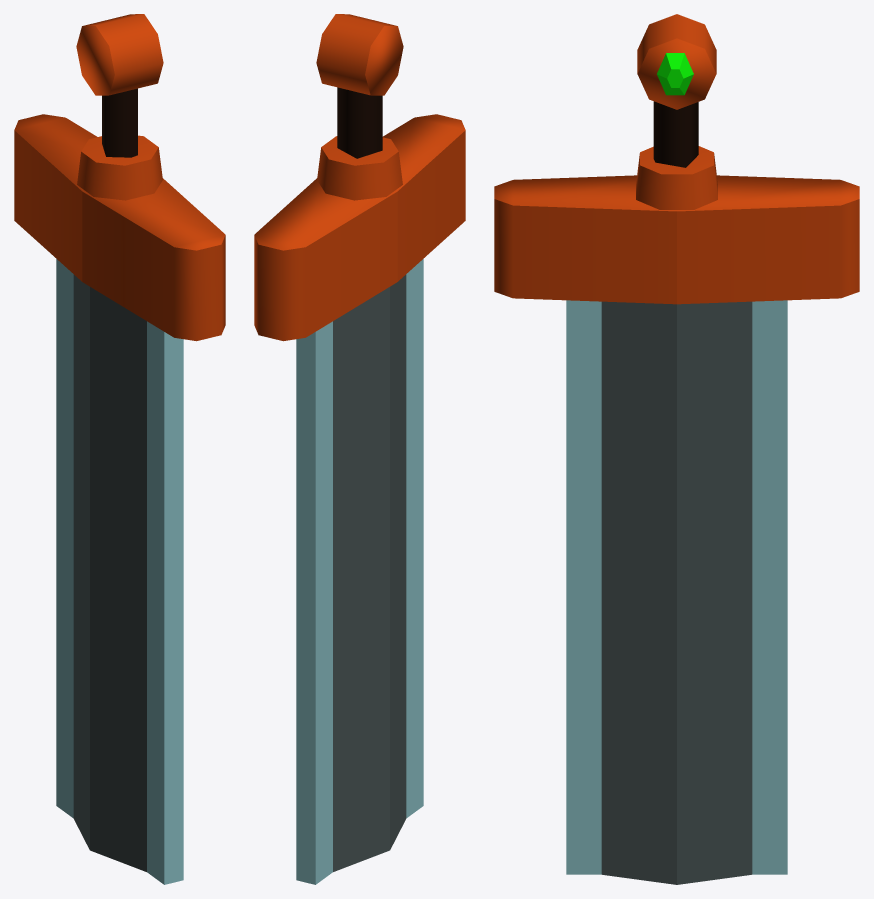
The model's file is Sword.fbx.
3 renders of one model, left to right at view 1: azimuth 30°, elevation 25°; view 2: azimuth 150°, elevation 25°; view 3: azimuth 270°, elevation 25°, orthographic. The views are drawn at different scales.
Parts seen in each view (by area): view 1: Sword_l; view 2: Sword_l; view 3: Sword_l.
Part boxes in pixels (x1,y1,x2,y2): Sword_l: (14, 14, 225, 884); Sword_l: (254, 14, 465, 884); Sword_l: (494, 14, 859, 884).
Size of the model in its own units: 9.83 by 40.44 by 103.
